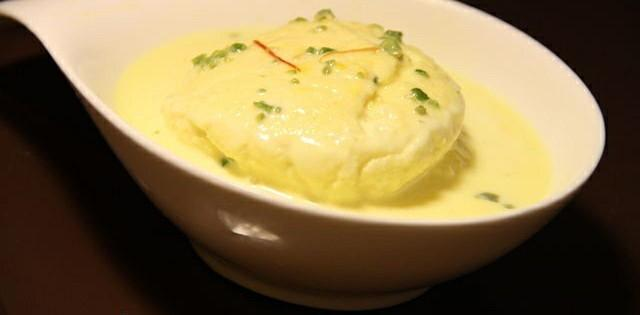RasMalai: (112, 9, 556, 215)
